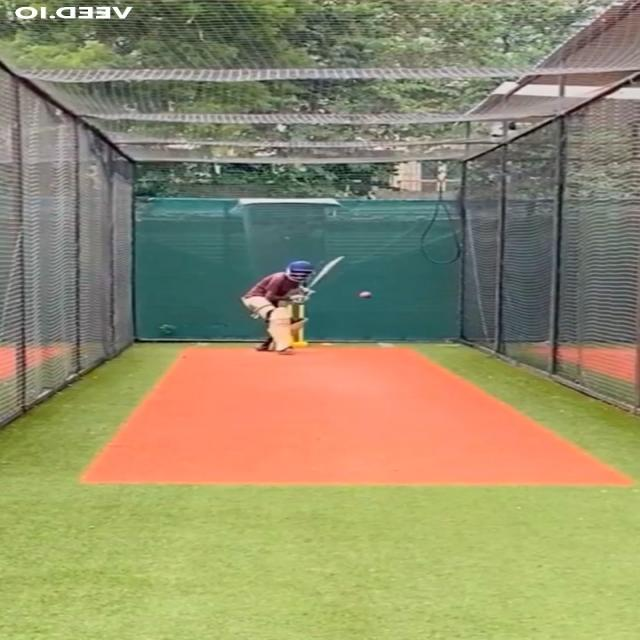ball: (358, 290, 374, 300)
stump: (288, 304, 308, 346)
